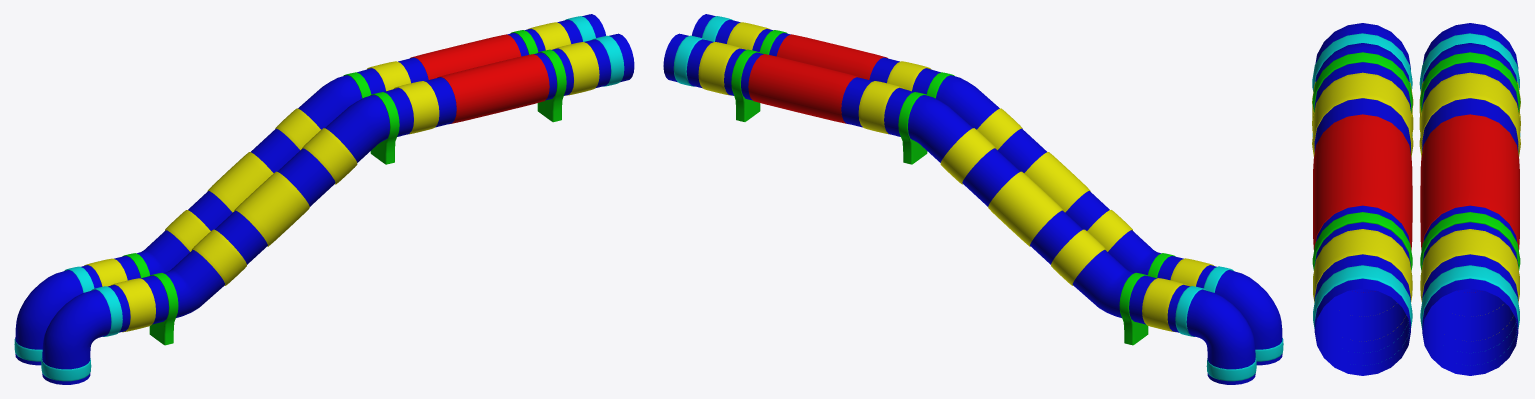
The model's file is Exterior_Main_Pipes.fbx.
3 renders of one model, left to right at view 1: azimuth 30°, elevation 25°; view 2: azimuth 150°, elevation 25°; view 3: azimuth 270°, elevation 25°, orthographic. The views are drawn at different scales.
Parts seen in each view (by area): view 1: Exterior_Main_Pipes; view 2: Exterior_Main_Pipes; view 3: Exterior_Main_Pipes.
Part boxes in pixels (x1=…): Exterior_Main_Pipes: x1=14, y1=14, x2=634, y2=384; Exterior_Main_Pipes: x1=663, y1=14, x2=1283, y2=384; Exterior_Main_Pipes: x1=1312, y1=23, x2=1520, y2=375.
Size of the model in its own units: 2183 by 739 by 342.
